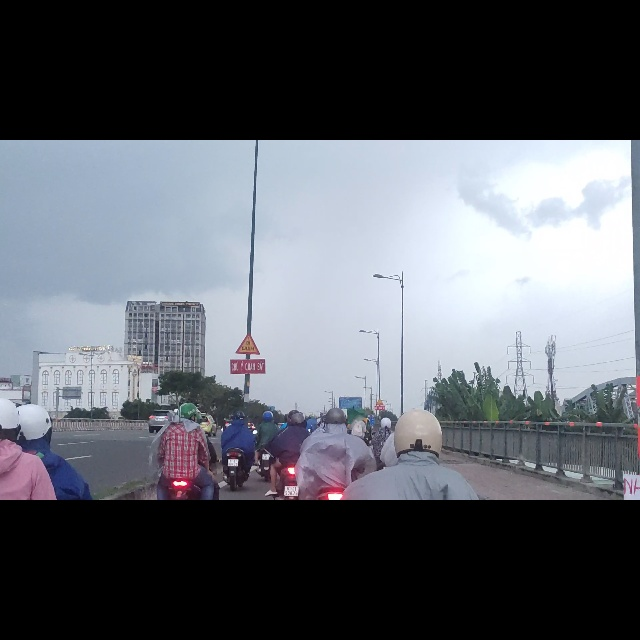bien_chi_dan: (235, 341, 260, 381)
